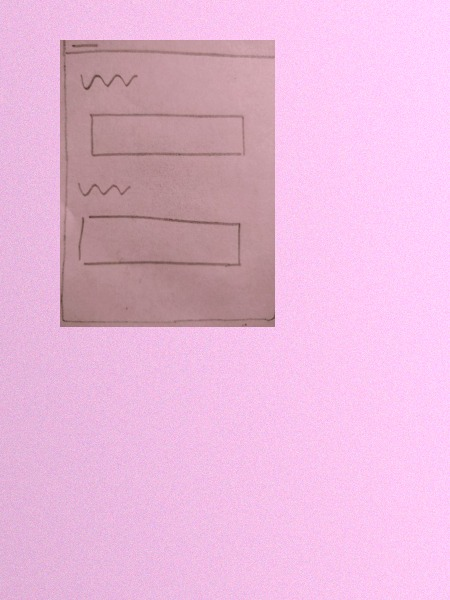text: (76, 68, 140, 94), (72, 177, 136, 203)
text_input: (76, 212, 245, 270), (87, 109, 248, 161)
